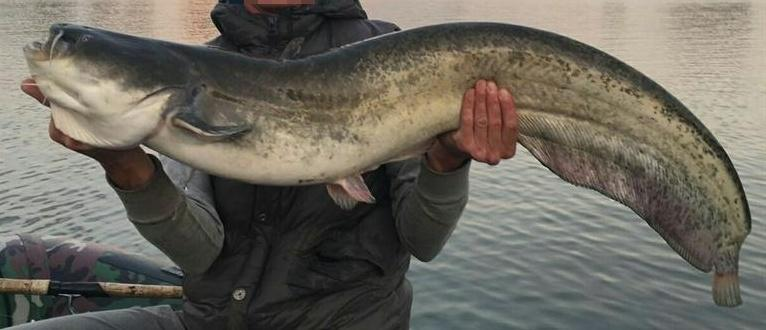Catfish: (23, 0, 751, 311)
